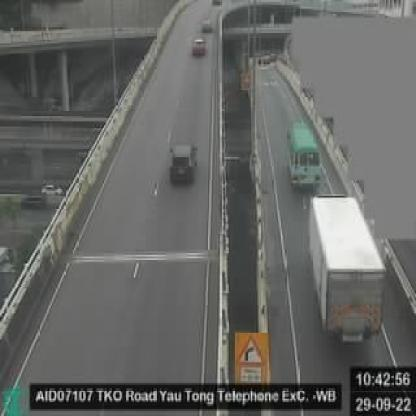Car: (162, 138, 202, 190), (187, 38, 209, 57), (195, 12, 215, 31)
Minibus: (280, 120, 322, 192)
Truck: (302, 189, 388, 352)
